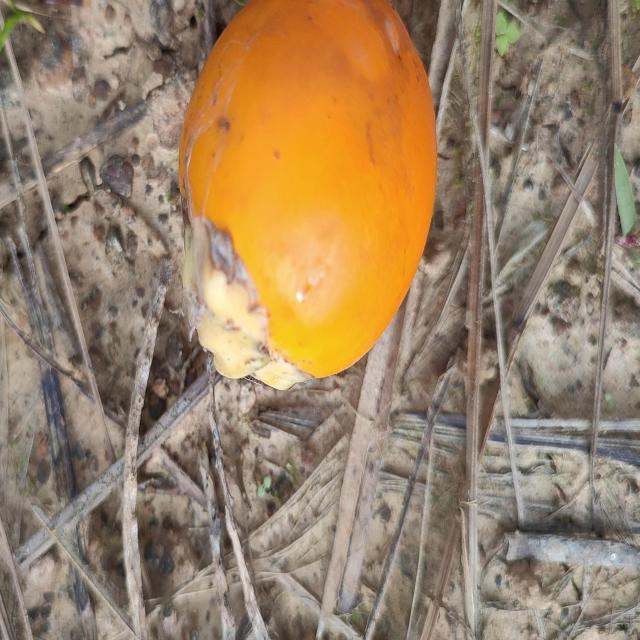good: (176, 0, 438, 385)
